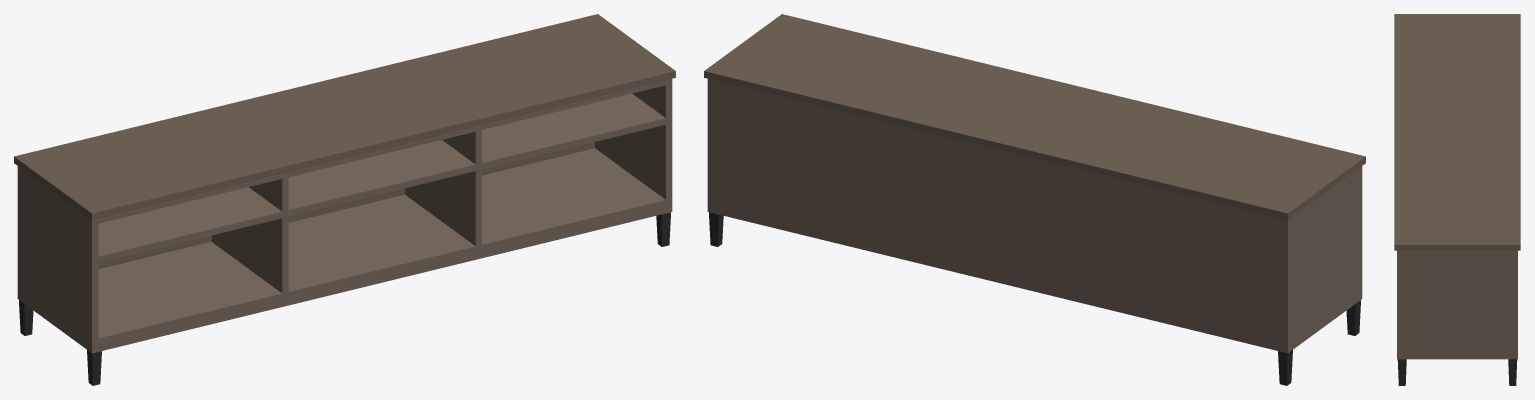
Rendered from TV_Table2_C3.fbx.
3 renders of one model, left to right at view 1: azimuth 30°, elevation 25°; view 2: azimuth 150°, elevation 25°; view 3: azimuth 270°, elevation 25°, orthographic. The views are drawn at different scales.
Visible parts, largest first — view 1: TV_Table2_C3; view 2: TV_Table2_C3; view 3: TV_Table2_C3.
Part boxes in pixels (bbox=[...]): TV_Table2_C3: bbox=[14, 14, 675, 385]; TV_Table2_C3: bbox=[704, 14, 1365, 385]; TV_Table2_C3: bbox=[1394, 14, 1520, 385].
Size of the model in its own units: 181 by 52 by 41.9.
